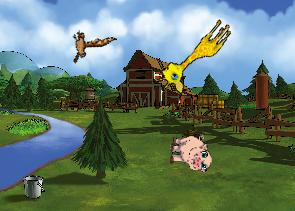eagle: (59, 15, 117, 73)
giraffe: (154, 10, 235, 98)
pig: (168, 133, 212, 173)
